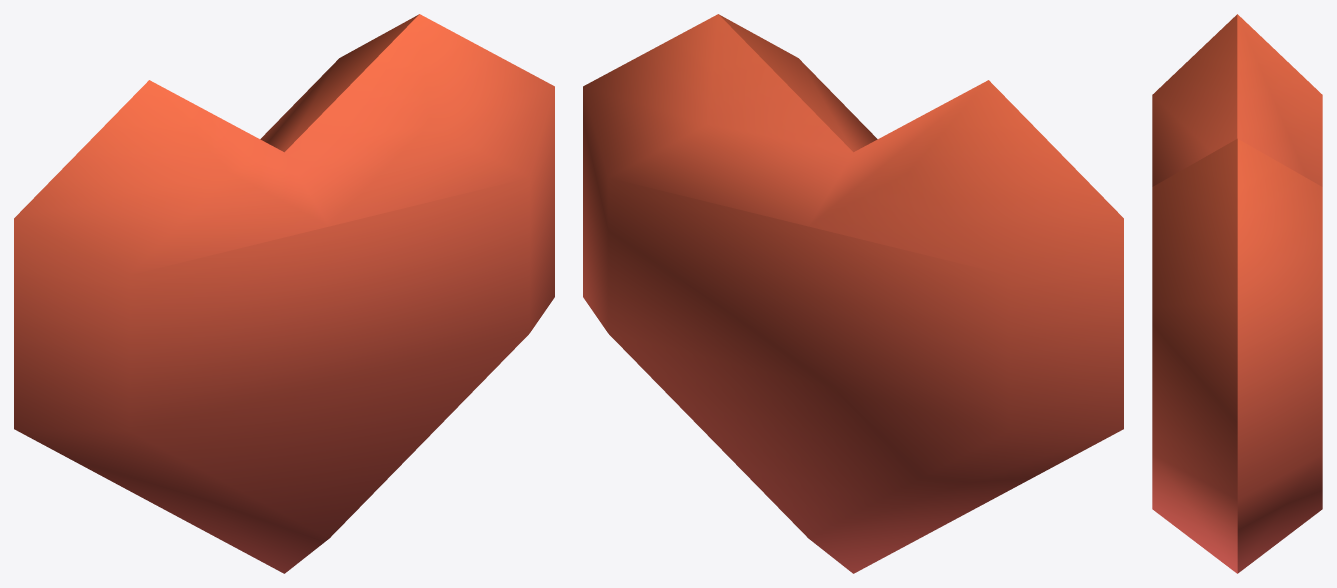
File: heart.glb
3 views of the same model, side by side, from view 1: azimuth 30°, elevation 25°; view 2: azimuth 150°, elevation 25°; view 3: azimuth 270°, elevation 25° (orthographic). The views are drawn at different scales.
Parts seen in each view (by area): view 1: heart; view 2: heart; view 3: heart.
Boxes of the visible parts, x1=… form: heart: x1=14, y1=14, x2=554, y2=573; heart: x1=583, y1=14, x2=1123, y2=573; heart: x1=1152, y1=14, x2=1322, y2=573.
Bounding box in the file's own units: 0.4122 × 0.3839 × 0.119.
1 material, 1 textured.
